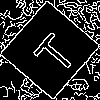T: (24, 25, 80, 78)
